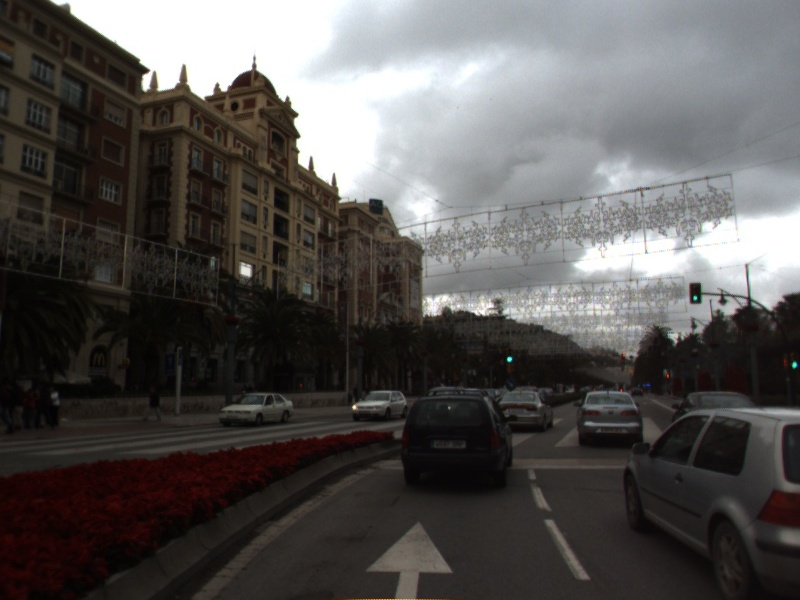STRAIGHT: (362, 517, 455, 600)
